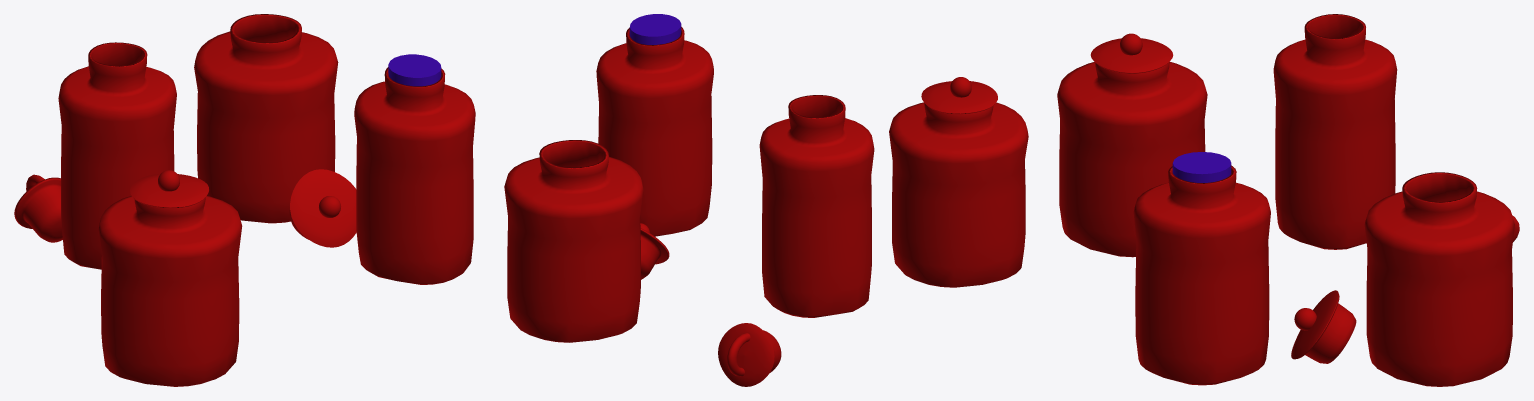
The model's file is Jars.fbx.
The picture shows the model from 3 angles, left to right: view 1: azimuth 30°, elevation 25°; view 2: azimuth 150°, elevation 25°; view 3: azimuth 270°, elevation 25°; orthographic projection. The views are drawn at different scales.
Visible parts, largest first — view 1: Jars; view 2: Jars; view 3: Jars.
Part boxes in pixels (x1,y1,x2,y2): Jars: (14,14,475,386); Jars: (504,14,1028,386); Jars: (1057,14,1519,386).
Size of the model in its own units: 24.07 by 13.44 by 23.89.
